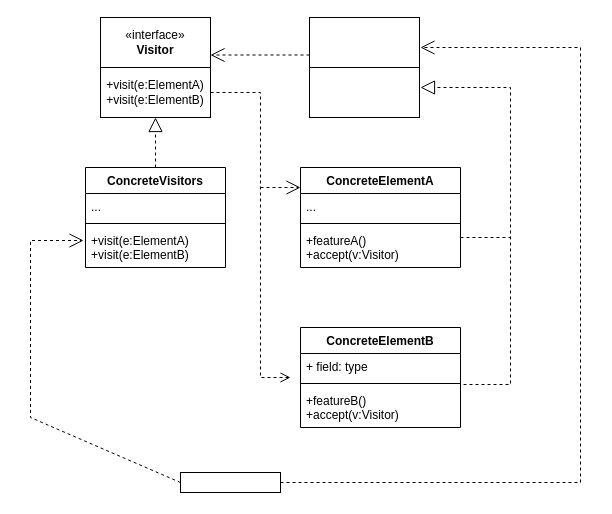
Image size: 612x514. Some labels were removed from this diagram. Here are the shapes that lost their labels. From the top down, the centre of each, then its label:
the point at 364,42: «interface» Element
the point at 364,92: +accept(v:Visistor)
the point at 230,482: client
